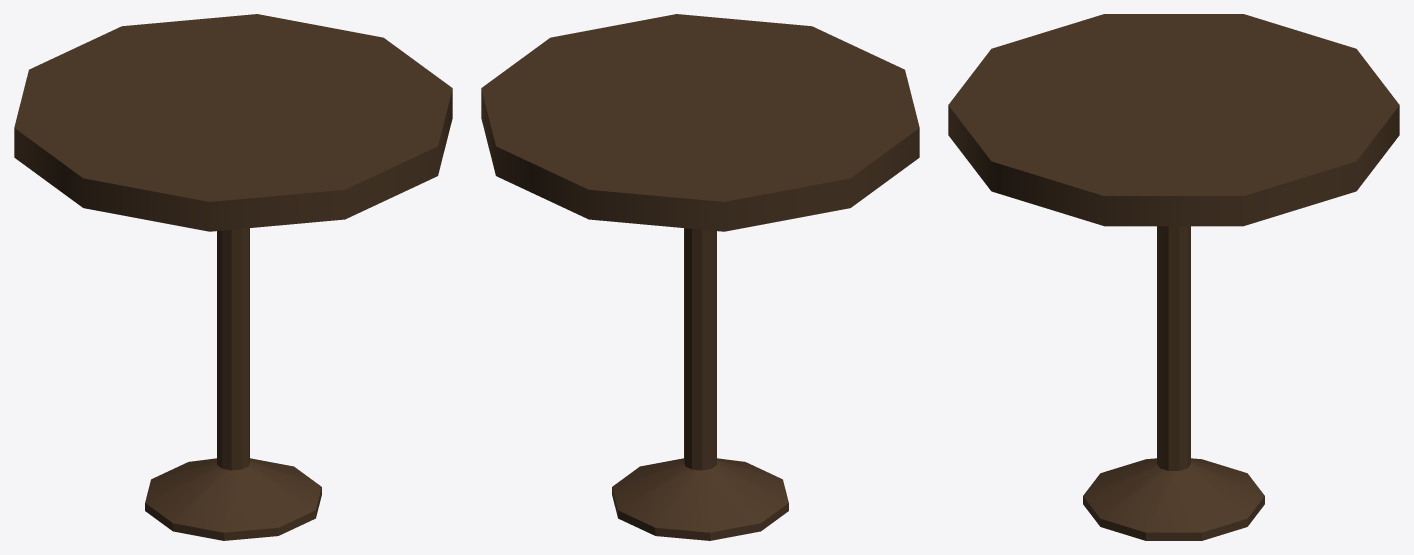
File: Table_Finished.fbx
3 views of the same model, side by side, from view 1: azimuth 30°, elevation 25°; view 2: azimuth 150°, elevation 25°; view 3: azimuth 270°, elevation 25° (orthographic).
Parts seen in each view (by area): view 1: pCylinder23; view 2: pCylinder23; view 3: pCylinder23.
Part boxes in pixels (bbox=[...]): pCylinder23: bbox=[14, 14, 452, 540]; pCylinder23: bbox=[481, 14, 919, 540]; pCylinder23: bbox=[948, 14, 1399, 540].
Bounding box in the file's own units: 151 × 154 × 158.
